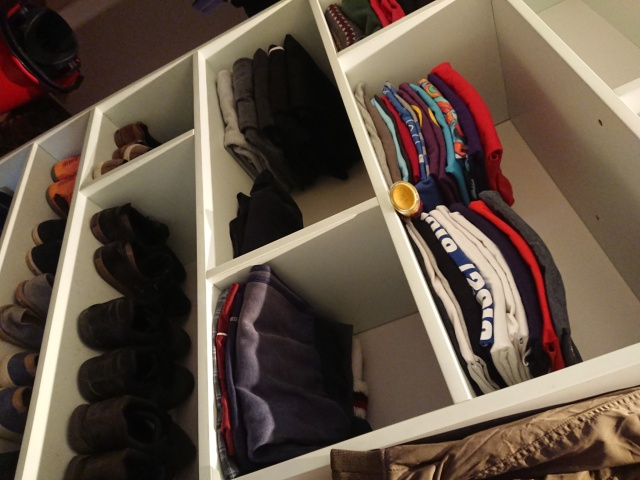Kotanyi Curry Spices Mix 70g: (387, 179, 423, 218)
